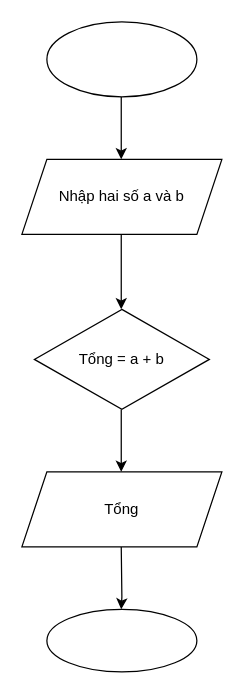
Image size: 244x694. Some labels were removed from this diagram. The box of each missing label's shape, as (x1, y1, x2, y2) in pixels:
Bắt đầu: (46, 21, 197, 97)
Kết thúc: (46, 608, 197, 672)
